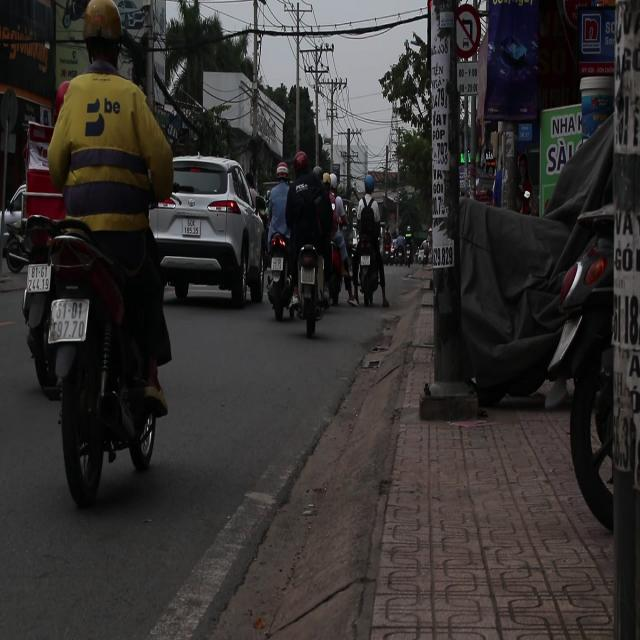car: (152, 156, 269, 306)
motorbike: (40, 216, 158, 474), (294, 243, 329, 335), (266, 232, 295, 321), (356, 236, 381, 312)
